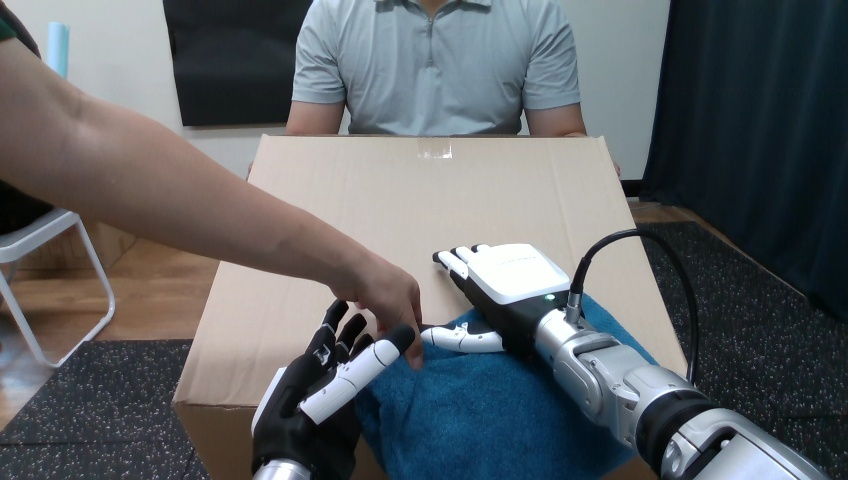left robot arm: (0, 38, 421, 329), (252, 300, 414, 479), (433, 245, 563, 354)
left robot hand: (252, 300, 414, 479)
right robot arm: (0, 38, 421, 329), (719, 324, 835, 475)
